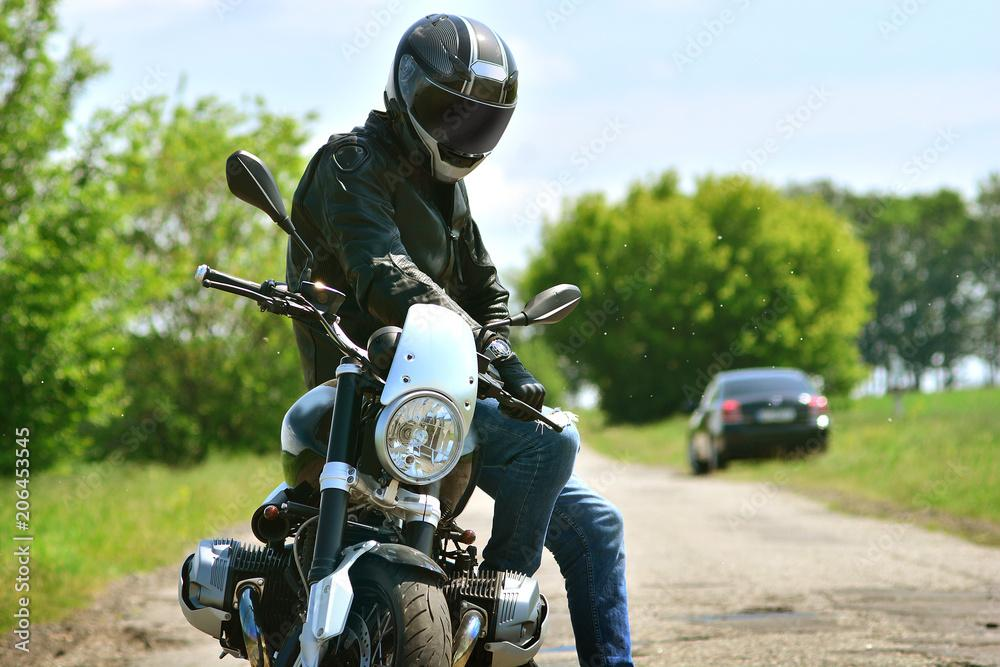helmet: (383, 12, 519, 186)
